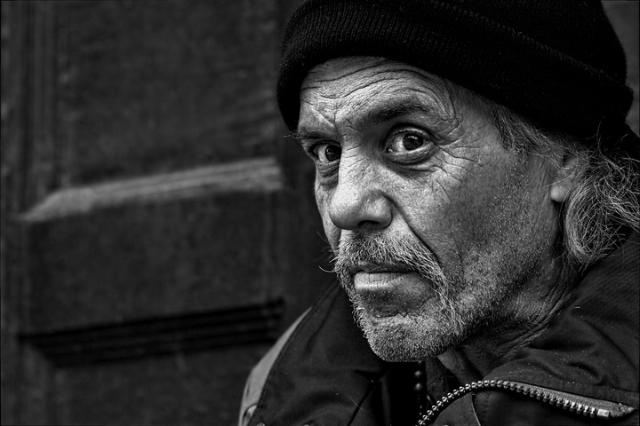bunny_line: (344, 142, 360, 168)
chin: (376, 306, 408, 322)
crows_feet: (437, 132, 467, 166)
forehead: (364, 59, 396, 83), (318, 68, 354, 86), (410, 82, 440, 100)
frown_line: (328, 109, 342, 137)
gummy_smile: (392, 196, 424, 238)
